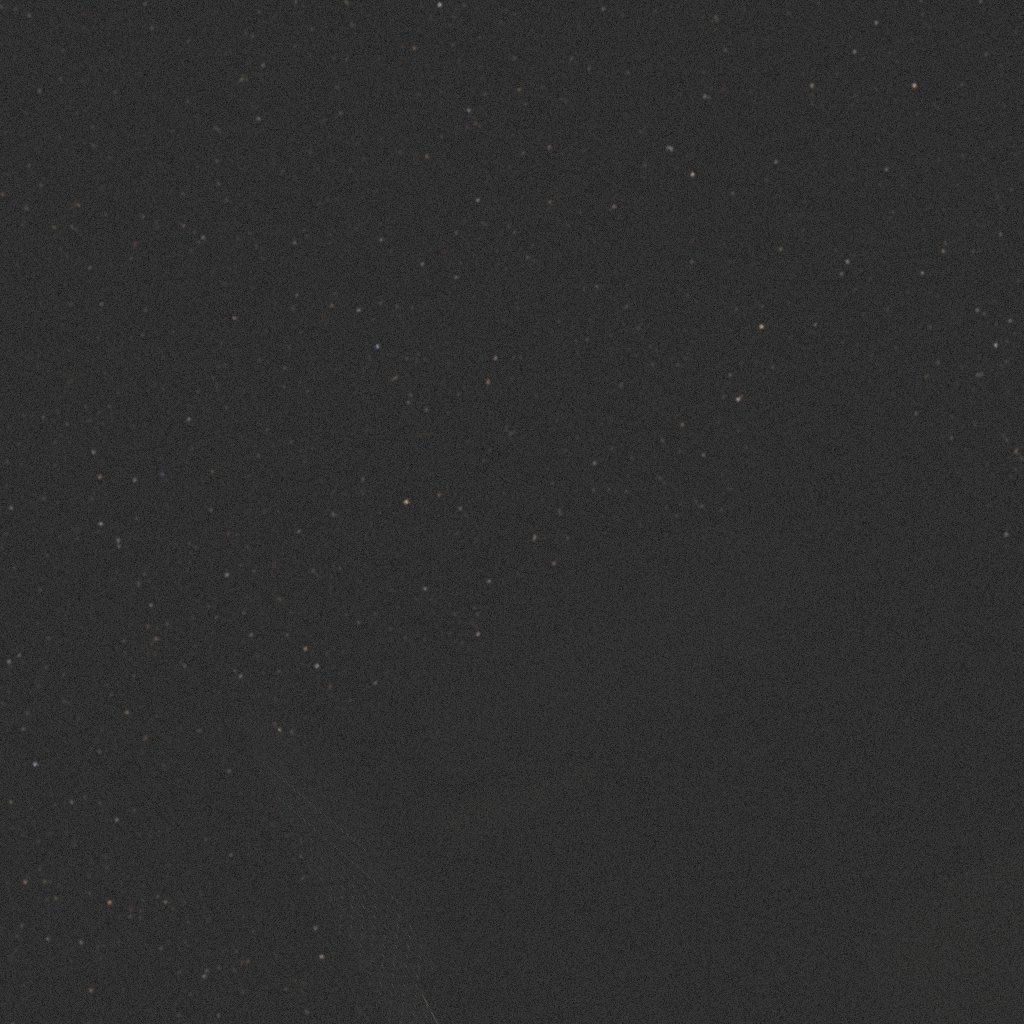proba_3_ocs: (238, 352, 1024, 1024)
